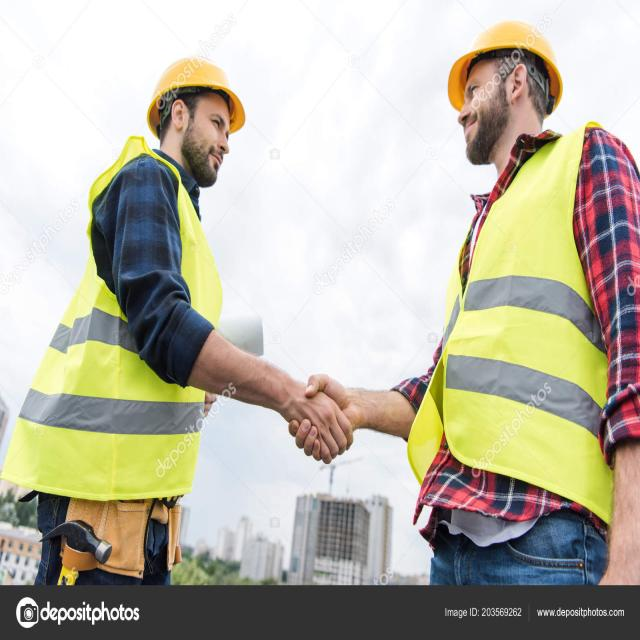helmet: (435, 16, 582, 108), (142, 46, 253, 132)
no-goggles: (185, 99, 232, 148), (444, 81, 493, 104)
vest: (400, 119, 630, 526), (31, 142, 227, 529)
